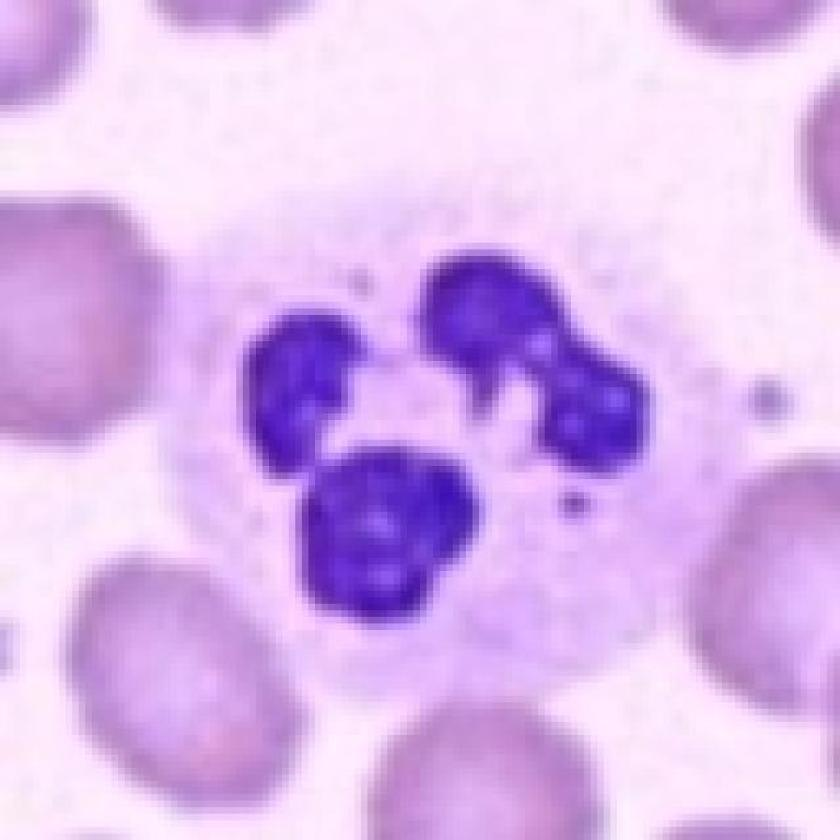neutrophil: (149, 124, 753, 689)
